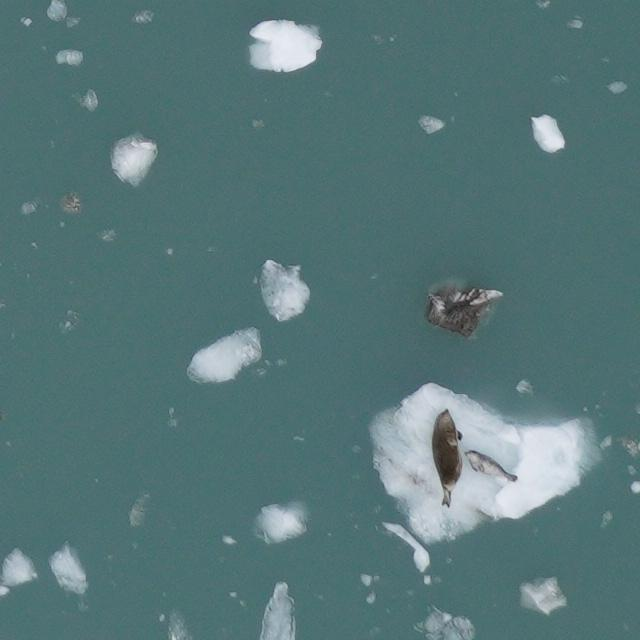seal: (429, 404, 466, 511), (460, 444, 522, 488)
